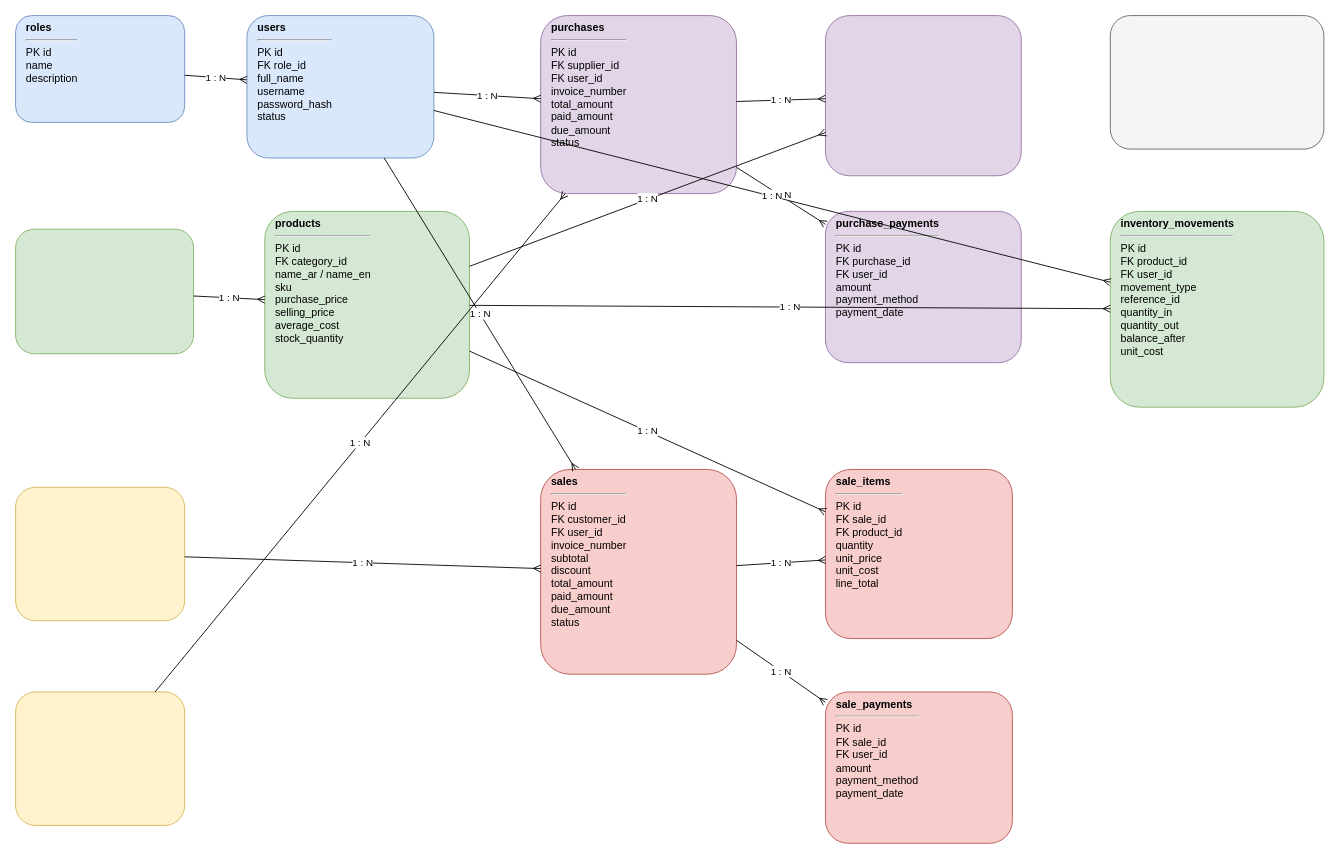
Some shapes in this 1339 by 859 pixel diagram are drawn without their labels. Here are the shapes that lost their labels. From the top down, the box of each, then its label:
(825, 15, 1021, 176): purchase_items PK id FK purchase_id FK product_id quantity unit_cost line_total
(1109, 15, 1324, 149): store_settings PK id store_name_ar store_name_en currency_code default_language
(15, 228, 194, 354): categories PK id name_ar name_en description status
(15, 486, 185, 621): customers PK id name phone email address status
(15, 691, 185, 825): suppliers PK id name phone email address status
